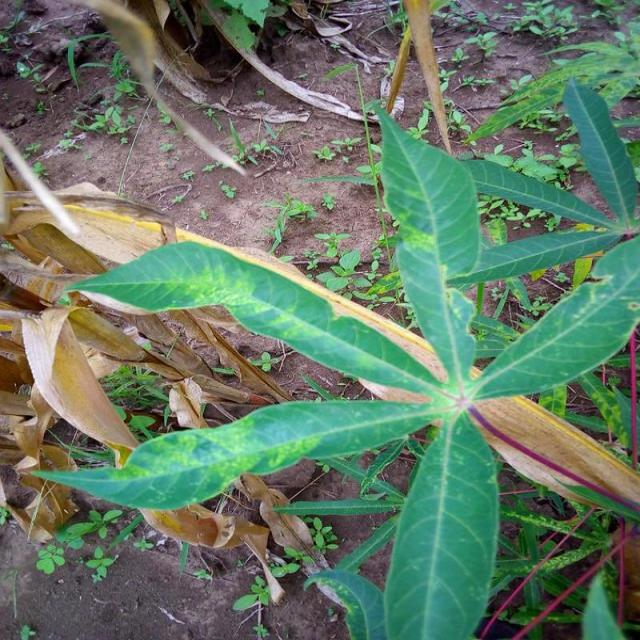cassava leaf: (27, 83, 638, 637), (382, 406, 500, 638)
